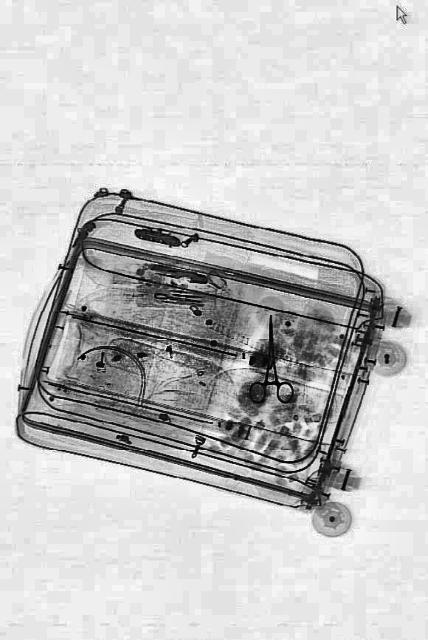Scissors: (246, 311, 292, 404)
